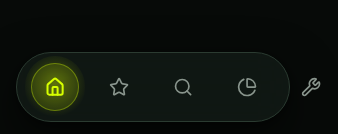
press-and-drag selection › shows a tooltip and highlights the icon once the hold is recognised
Press the mouse on the navigation bar with class "dock" at x=153, y=87, box [16, 52, 290, 122]
Wait 300 ms
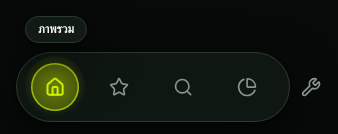
Result: the text with class "dock__drag-tip" reads "ภาพรวม" at [38, 20, 74, 37]
